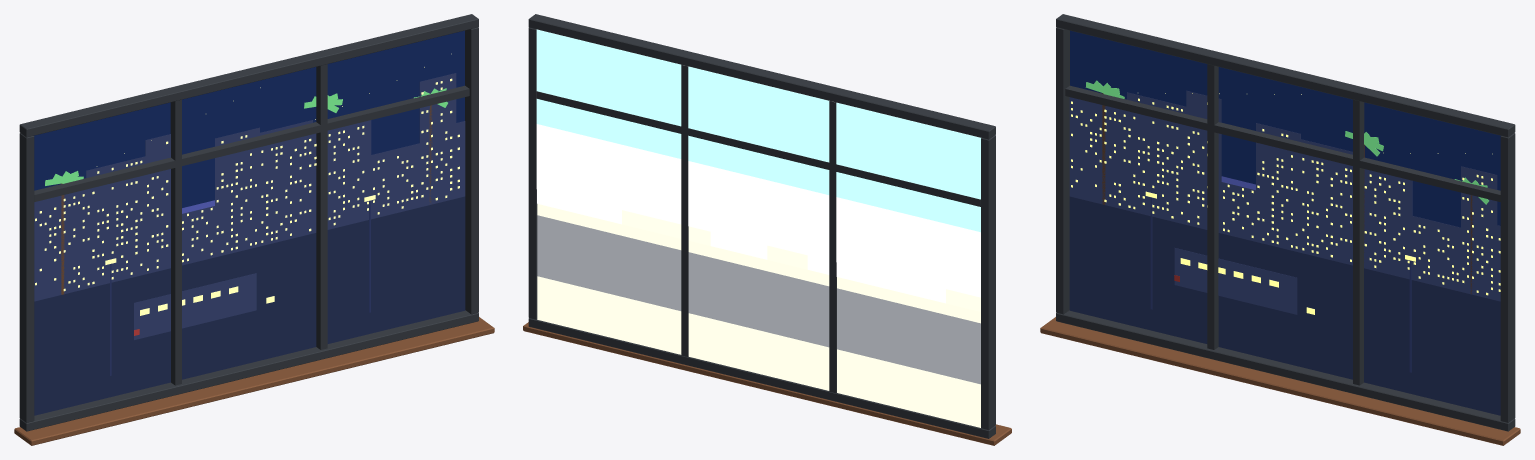
The model's file is storefront_window.glb.
3 views of the same model, side by side, from view 1: azimuth 30°, elevation 25°; view 2: azimuth 150°, elevation 25°; view 3: azimuth 330°, elevation 25° (orthographic).
Parts seen in each view (by area): view 1: ViewNight, WindowFrame, ViewDay; view 2: ViewDay, WindowFrame; view 3: ViewNight, WindowFrame, ViewDay.
Part boxes in pixels (x1,y1,x2,y2): ViewNight: [34, 30, 465, 415]; WindowFrame: [14, 14, 494, 445]; ViewDay: [45, 88, 447, 294]; ViewDay: [536, 29, 980, 427]; WindowFrame: [523, 14, 1011, 445]; ViewNight: [1069, 30, 1500, 415]; WindowFrame: [1040, 14, 1520, 445]; ViewDay: [1085, 80, 1488, 294].
Size of the model in its own units: 3.4 by 2.16 by 0.22.
